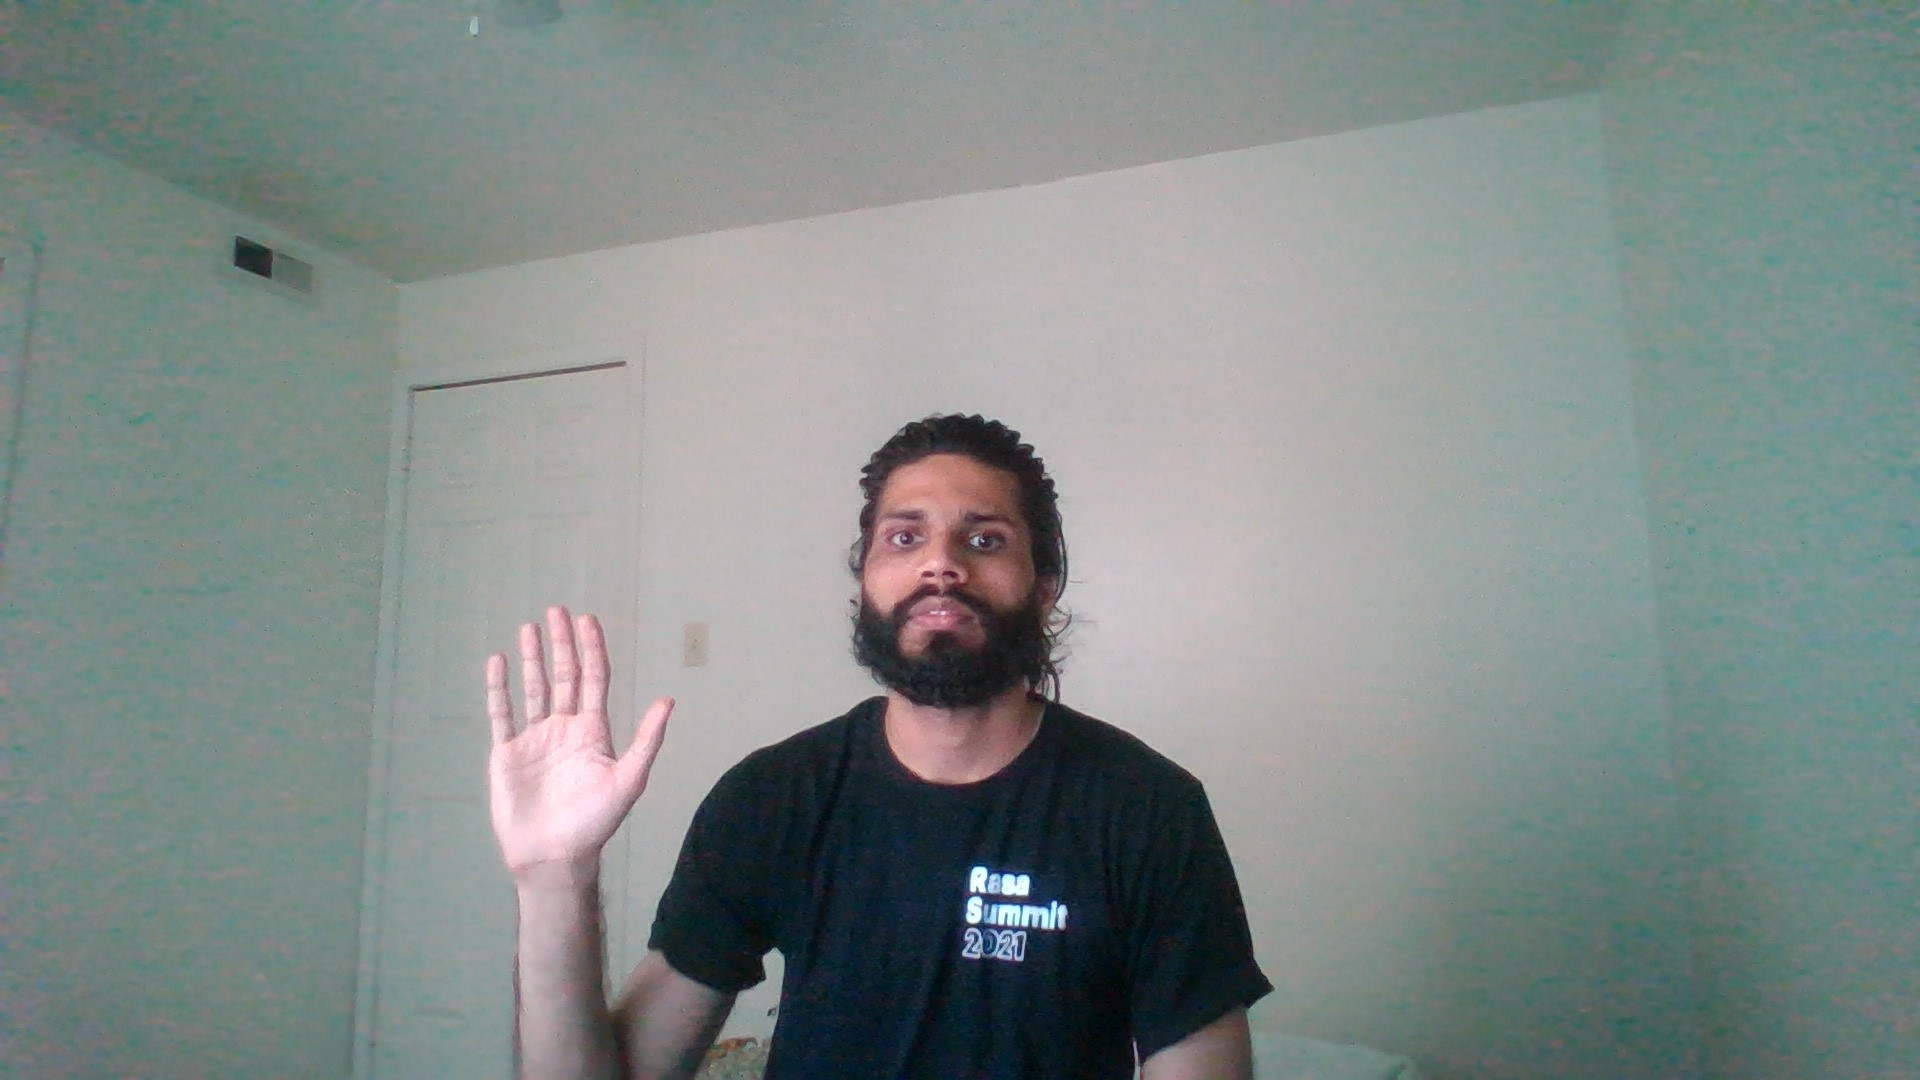Hello: (388, 600, 740, 911)
